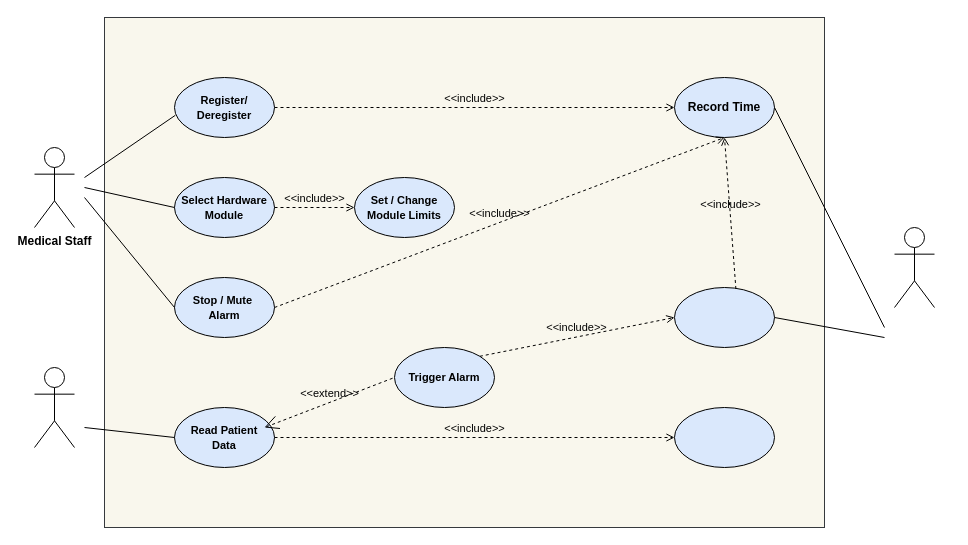
Some shapes in this 968 by 545 pixel diagram are drawn without their labels. The shapes that lost their labels are listed below. From the top down, each one's centre as x and y in pixels, then its label:
At [914,267]: "Management".
At [724,317]: "Alert Staff".
At [54,407]: "Bedside Monitoring".
At [724,437]: "Display the Data".
